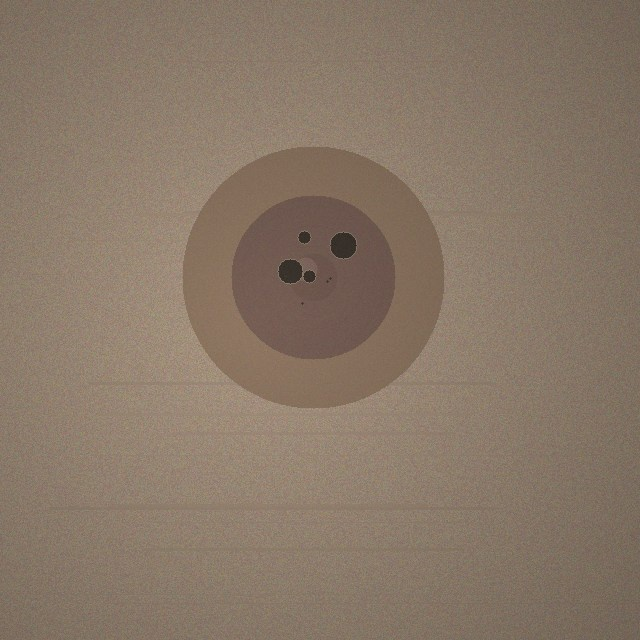shrinkage: (182, 146, 444, 408)
